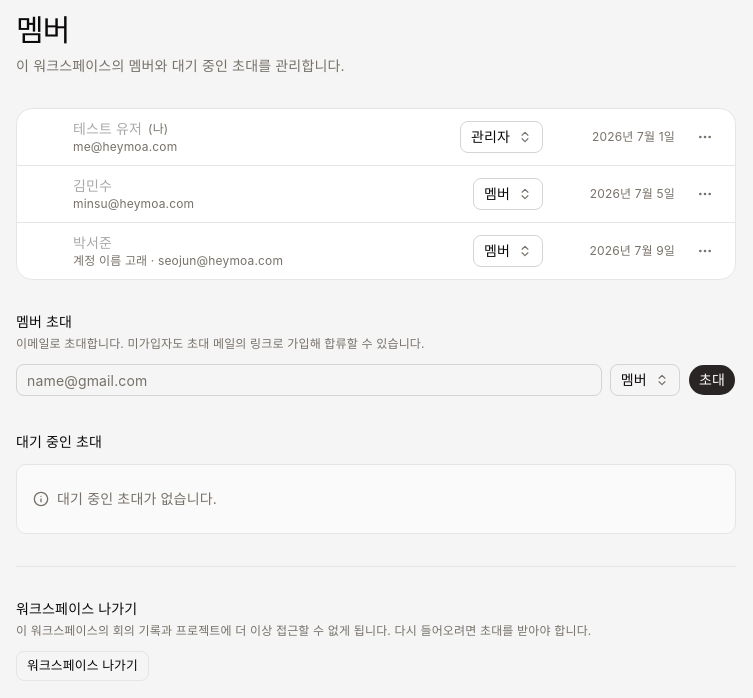
MembersSettings › 자기 행 메뉴에는 이름 변경만 있고 내보내기는 없다
Click the button named "테스트 유저(me@heymoa.com) 관리": (705, 137) [691,123,719,151]
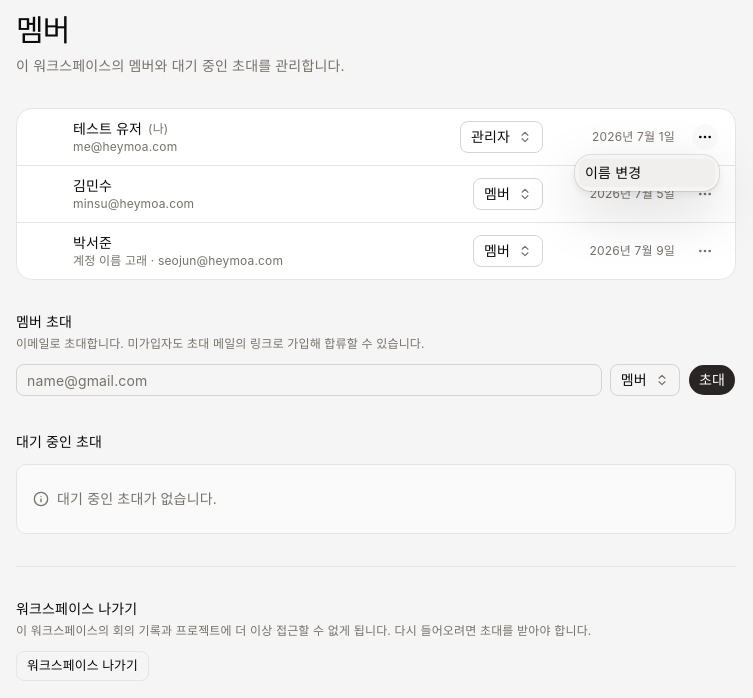
expect the dropdown named "테스트 유저(me@heymoa.com) 역할" is shown: met, box [460,121,543,153]
expect the menu item "이름 변경" is shown: met, box [579,159,715,187]
